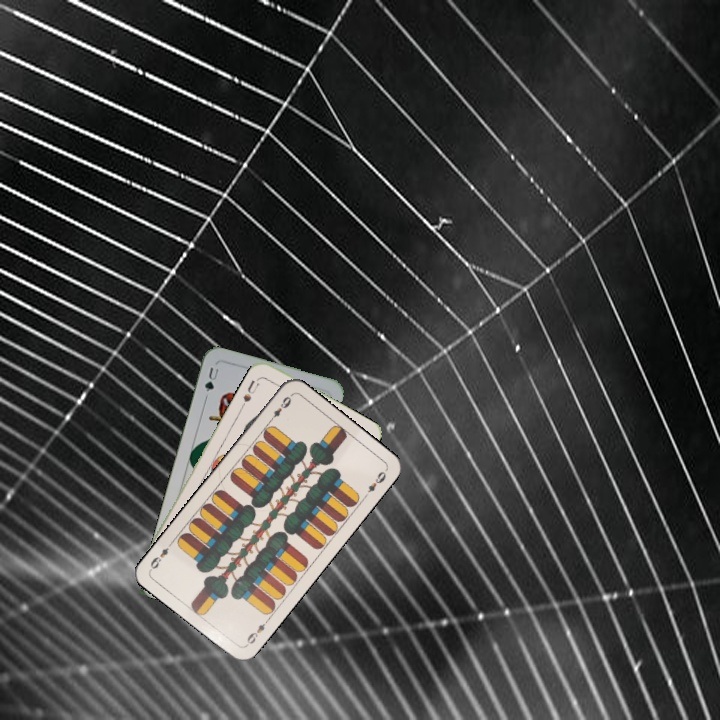E9: (242, 614, 272, 649), (265, 392, 294, 425)
GU: (200, 363, 221, 401)
SU: (237, 376, 262, 410)
